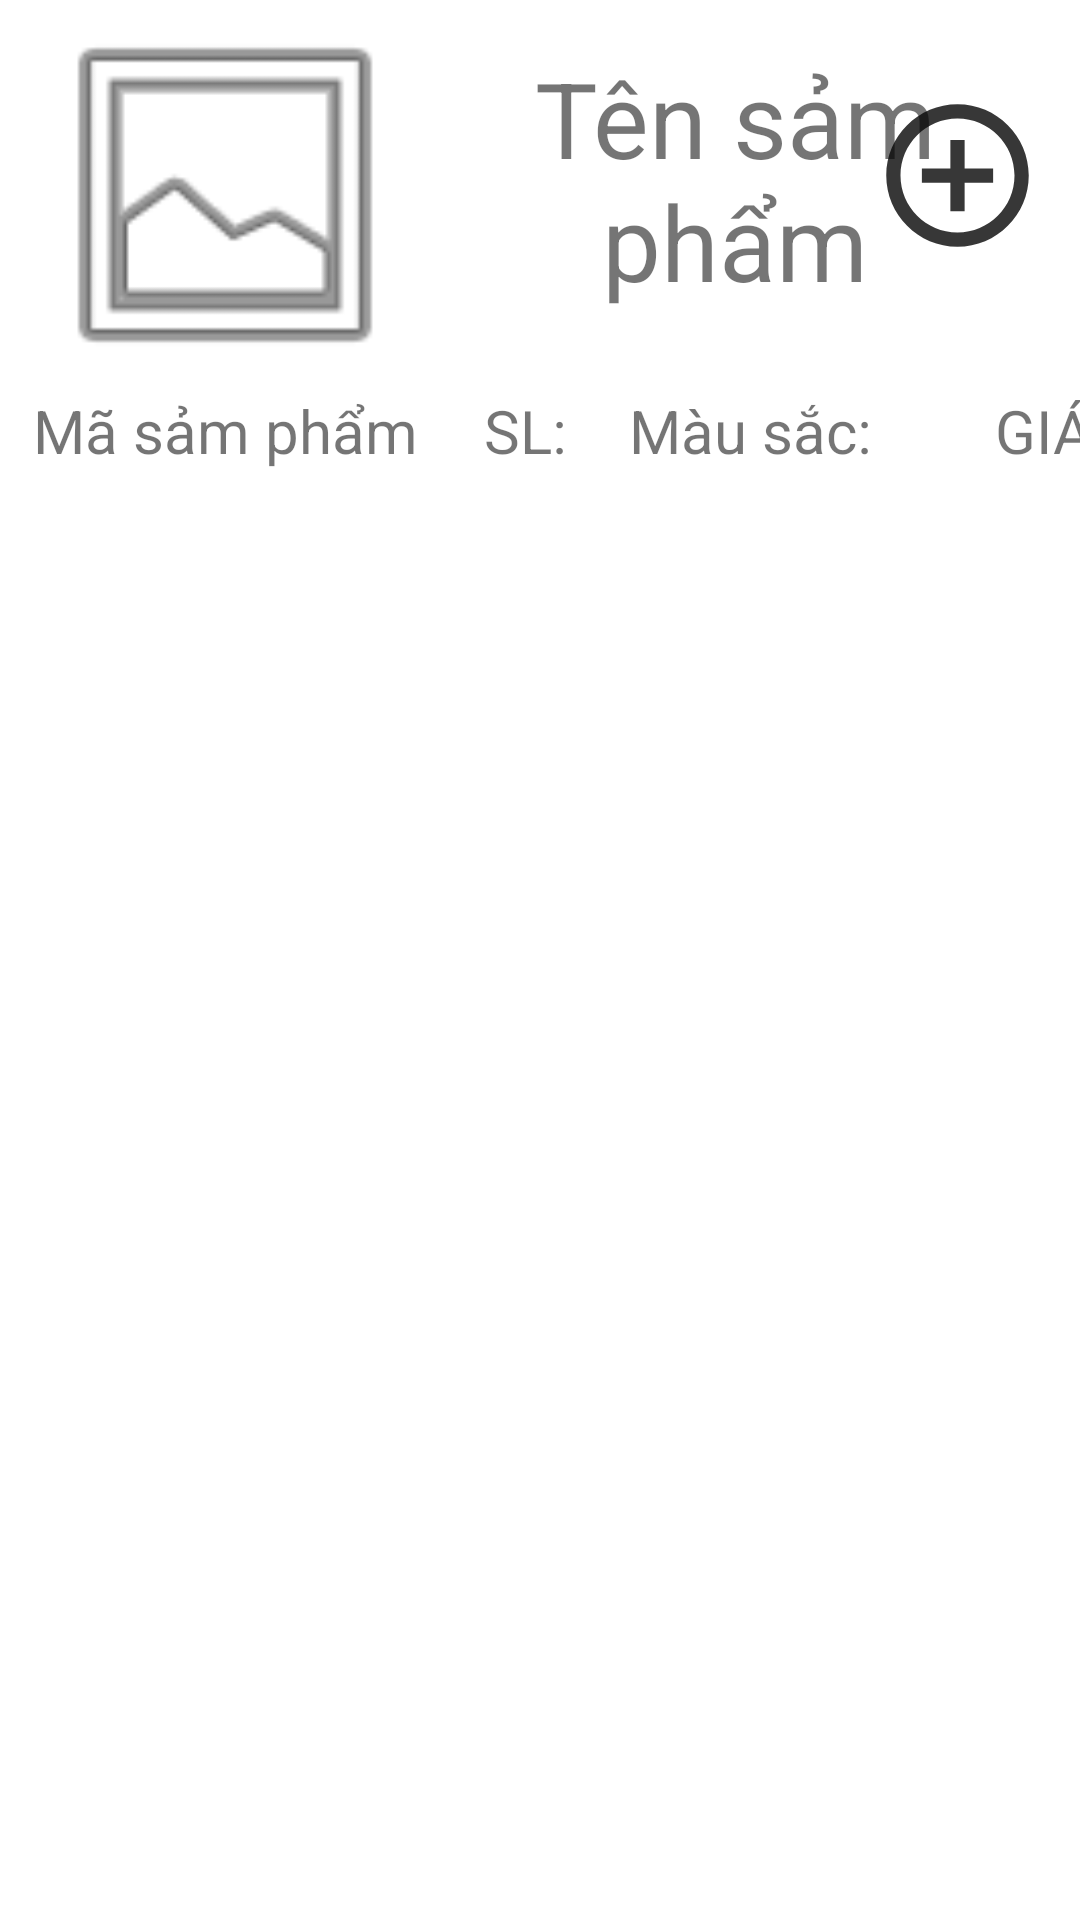

Icon bounding boxes for this 1080*1920 phone screenshot, format box=[x1, y1, x2, y2]:
gallery: box=[78, 48, 372, 342]
